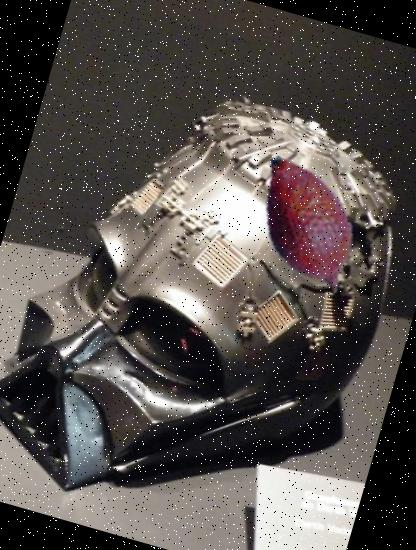Salak: (216, 132, 400, 315)
